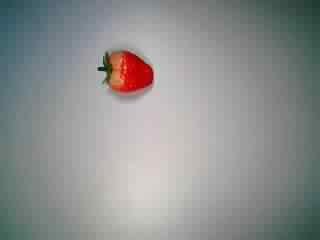strawberry: (87, 37, 160, 104)
